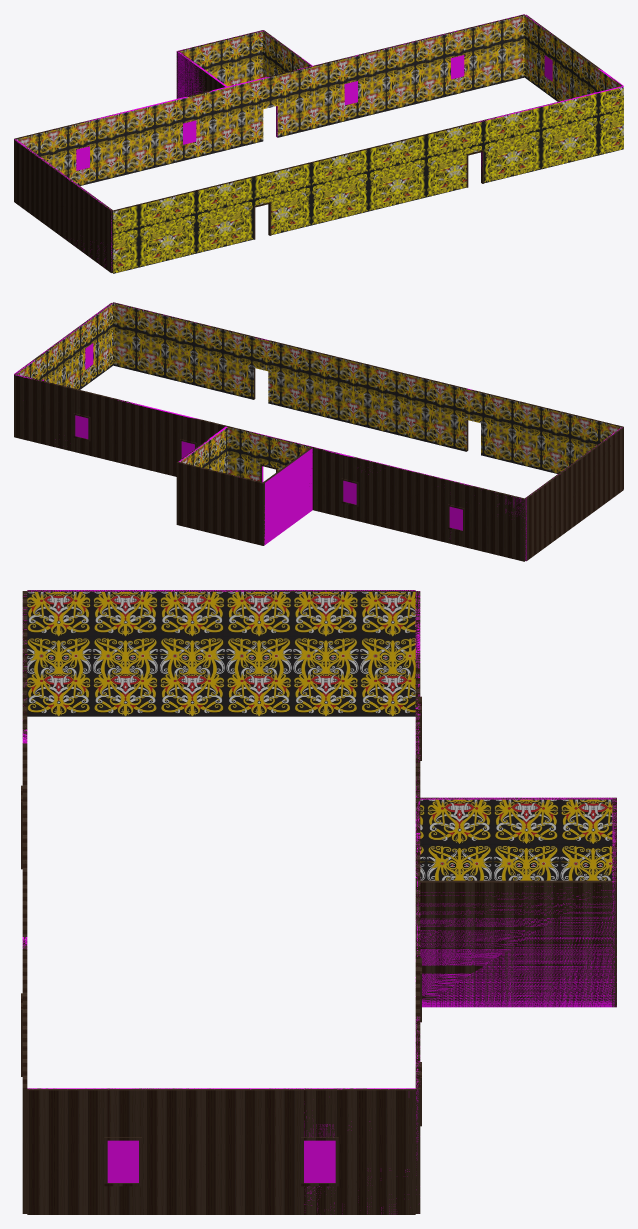
Rendered from dinding_luar.glb.
The picture shows the model from 3 angles, top to bottom: view 1: azimuth 30°, elevation 25°; view 2: azimuth 150°, elevation 25°; view 3: azimuth 270°, elevation 25°; orthographic projection. The views are drawn at different scales.
Visible parts, largest first — view 1: dinding_depan_motif_usei_pos, dinding_belakang_motif_dalam_pos, dinding_kiri, dinding_kanan_motif_dalam_neg, dinding_atang_belakang_motif_dalam_pos, dinding_atang_kanan_motif_dalam_neg, dinding_atang_kiri, dinding_depan, col_dinding_atang_kiri_0, dinding_belakang, dinding_depan_kusen; view 2: dinding_depan_motif_dalam_neg, dinding_belakang, dinding_kiri, dinding_atang_belakang, dinding_kanan_motif_dalam_neg, col_dinding_atang_kiri_0, dinding_belakang_motif_dalam_neg, dinding_atang_kanan_motif_dalam_neg, dinding_depan, dinding_belakang_kusen; view 3: dinding_kiri_motif_dalam_pos, dinding_kanan, dinding_atang_kanan, dinding_atang_kiri_motif_dalam_pos, col_dinding_atang_kanan_0, dinding_depan, dinding_belakang, col_dinding_kanan_jendela_0, col_dinding_kanan_jendela_1, dinding_kanan_kusen, dinding_atang_belakang.
Boxes of the visible parts, x1,y1,x2,y2 form: dinding_depan_motif_usei_pos: [113, 87, 623, 273]; dinding_belakang_motif_dalam_pos: [16, 15, 524, 185]; dinding_kiri: [14, 139, 112, 272]; dinding_kanan_motif_dalam_neg: [524, 15, 620, 101]; dinding_atang_belakang_motif_dalam_pos: [180, 31, 262, 86]; dinding_atang_kanan_motif_dalam_neg: [262, 31, 310, 77]; dinding_atang_kiri: [177, 51, 224, 97]; dinding_depan: [112, 95, 586, 273]; col_dinding_atang_kiri_0: [177, 51, 227, 98]; dinding_belakang: [14, 14, 524, 139]; dinding_depan_kusen: [253, 150, 483, 239]; dinding_depan_motif_dalam_neg: [113, 303, 621, 473]; dinding_belakang: [14, 374, 525, 561]; dinding_kiri: [525, 427, 623, 560]; dinding_atang_belakang: [176, 462, 264, 545]; dinding_kanan_motif_dalam_neg: [17, 303, 113, 389]; col_dinding_atang_kiri_0: [265, 448, 312, 544]; dinding_belakang_motif_dalam_neg: [227, 427, 310, 481]; dinding_atang_kanan_motif_dalam_neg: [180, 427, 227, 473]; dinding_depan: [113, 302, 623, 488]; dinding_belakang_kusen: [73, 413, 464, 532]; dinding_kiri_motif_dalam_pos: [27, 592, 415, 716]; dinding_kanan: [27, 1088, 415, 1214]; dinding_atang_kanan: [420, 880, 612, 1006]; dinding_atang_kiri_motif_dalam_pos: [420, 799, 612, 880]; col_dinding_atang_kanan_0: [420, 885, 612, 1007]; dinding_depan: [22, 591, 27, 1213]; dinding_belakang: [415, 591, 420, 1213]; col_dinding_kanan_jendela_0: [304, 1140, 335, 1182]; col_dinding_kanan_jendela_1: [107, 1140, 138, 1182]; dinding_kanan_kusen: [104, 1137, 338, 1186]; dinding_atang_belakang: [612, 797, 616, 1007].
Bounding box in the file's own units: 30.16 × 3.5 × 15.16.
4 materials, 3 textured.
